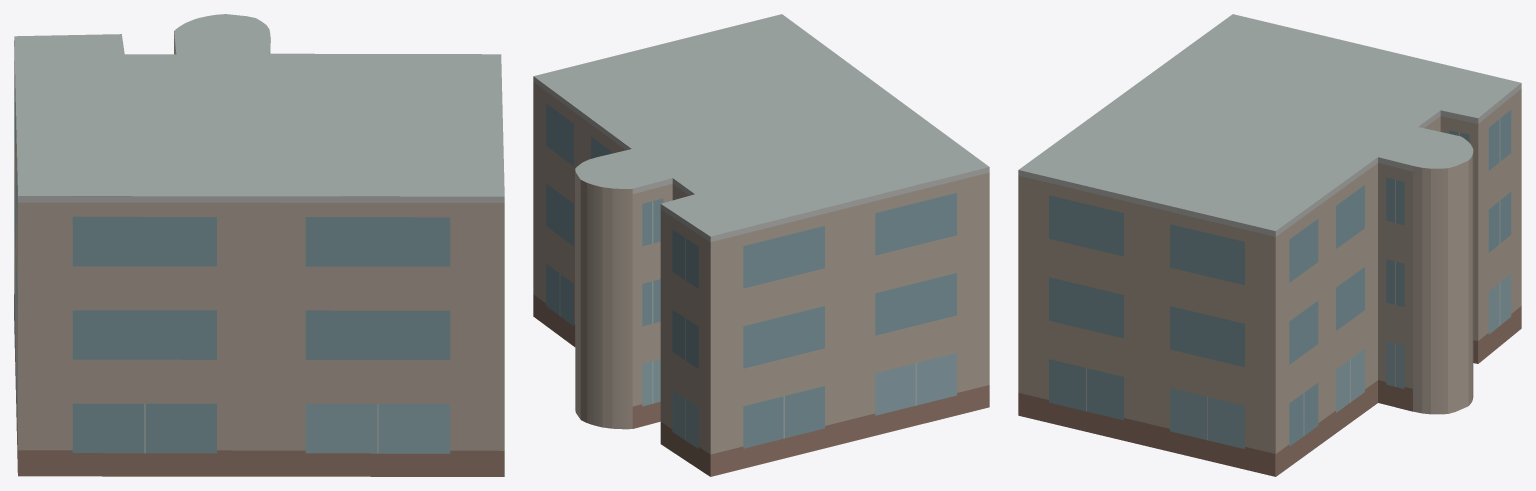
Rendered from survey-upis-32743066.glb.
3 renders of one model, left to right at view 1: azimuth 30°, elevation 25°; view 2: azimuth 150°, elevation 25°; view 3: azimuth 270°, elevation 25°, orthographic. The views are drawn at different scales.
Parts seen in each view (by area): view 1: survey-upis-32743066.tmp; view 2: survey-upis-32743066.tmp; view 3: survey-upis-32743066.tmp.
Boxes of the visible parts, x1,y1,x2,y2 form: survey-upis-32743066.tmp: (14, 14, 504, 476); survey-upis-32743066.tmp: (533, 14, 989, 476); survey-upis-32743066.tmp: (1018, 14, 1521, 476).
Bounding box in the file's own units: 19.91 × 10.5 × 19.5.
